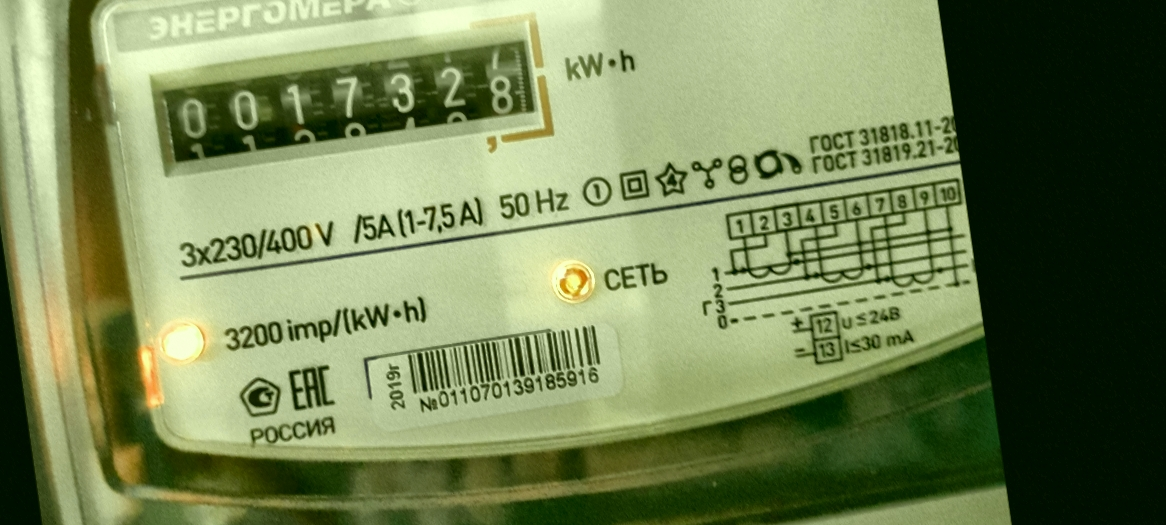0: (174, 96, 212, 144), (227, 86, 262, 135)
1: (281, 80, 308, 129)
2: (433, 64, 468, 112)
3: (384, 70, 417, 117)
7: (331, 74, 364, 124)
8: (484, 73, 515, 118)
screen: (138, 13, 562, 198)
